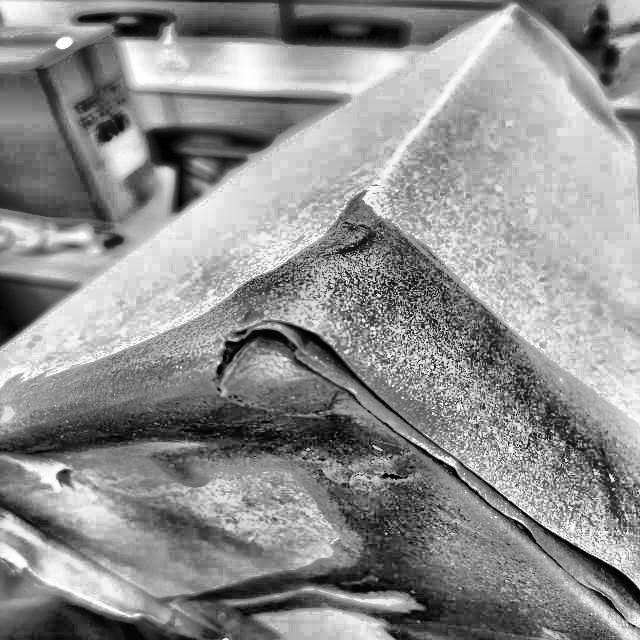box: (0, 0, 639, 639)
wet: (285, 195, 639, 639), (0, 242, 421, 594)
